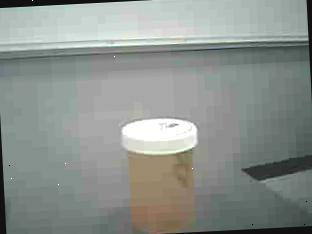Bottle B: (113, 111, 214, 234)
